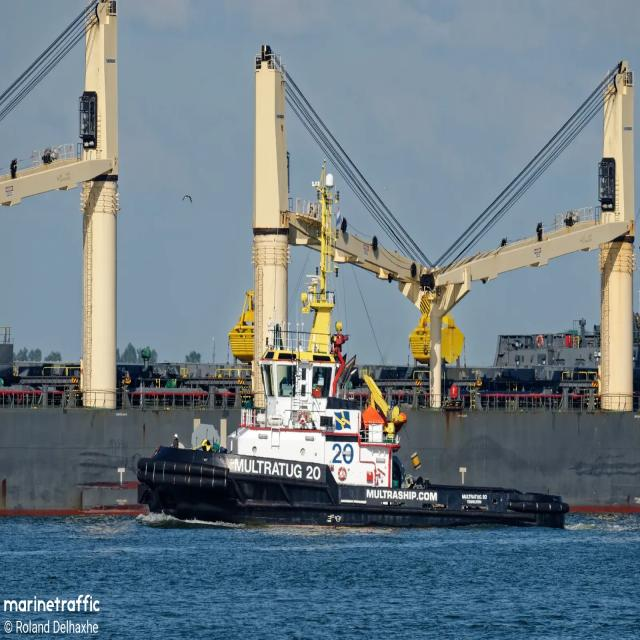Tug: (138, 164, 568, 527)
